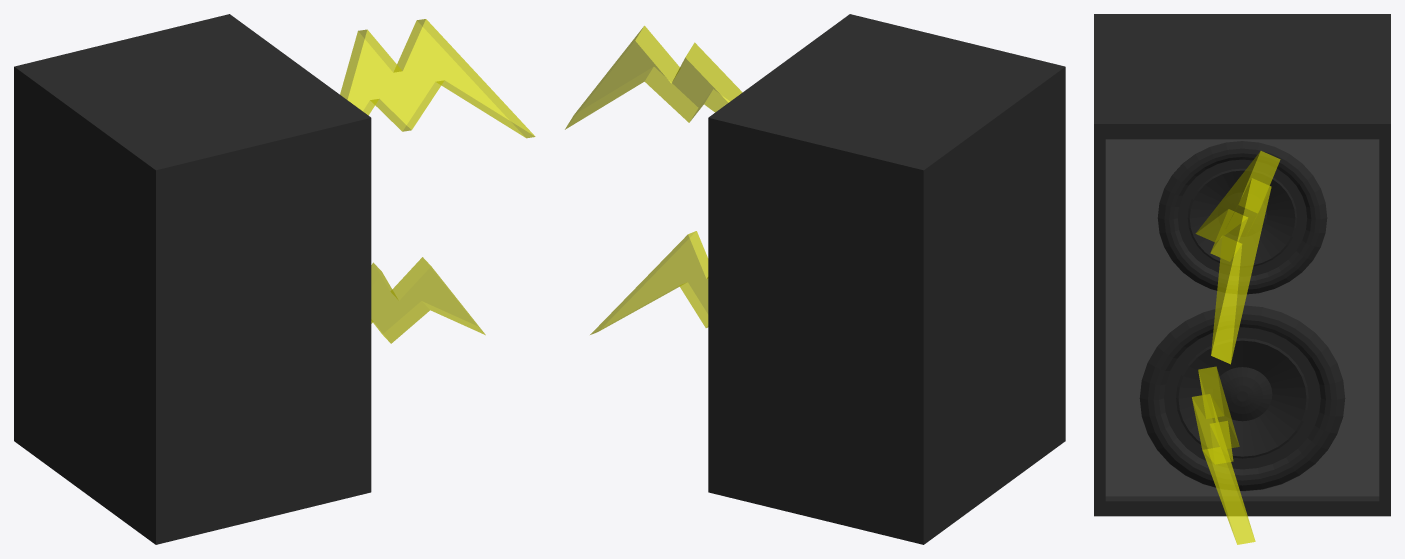
The model's file is deathmetal.fbx.
The picture shows the model from 3 angles, left to right: view 1: azimuth 30°, elevation 25°; view 2: azimuth 150°, elevation 25°; view 3: azimuth 270°, elevation 25°; orthographic projection. The views are drawn at different scales.
Parts seen in each view (by area): view 1: speaker, sound_01, sound_02; view 2: speaker, sound_01, sound_02; view 3: speaker, speaker_02, speaker_01, sound_01, sound_02.
Boxes of the visible parts, bbox=[...] form: speaker: bbox=[14, 14, 371, 544]; sound_01: bbox=[340, 19, 535, 138]; sound_02: bbox=[371, 257, 485, 343]; speaker: bbox=[708, 14, 1065, 544]; sound_01: bbox=[565, 25, 742, 129]; sound_02: bbox=[590, 231, 708, 334]; speaker: bbox=[1094, 14, 1390, 516]; speaker_02: bbox=[1139, 305, 1345, 490]; speaker_01: bbox=[1157, 141, 1327, 294]; sound_01: bbox=[1195, 151, 1280, 364]; sound_02: bbox=[1192, 366, 1255, 544].
Bounding box in the file's own units: 557 × 472 × 314.
